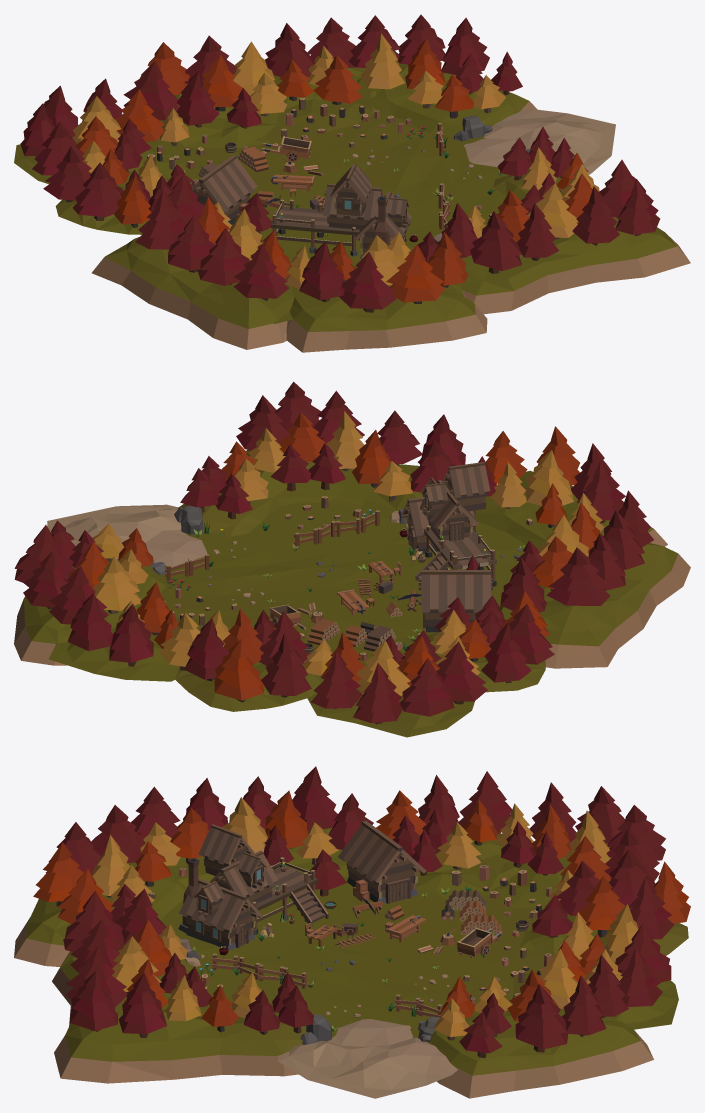
The model's file is LumberMill_Autumn.glb.
3 renders of one model, top to bottom at view 1: azimuth 30°, elevation 25°; view 2: azimuth 150°, elevation 25°; view 3: azimuth 270°, elevation 25°, orthographic. The views are drawn at different scales.
Parts seen in each view (by area): view 1: TB_Env_Tile_Grass_A, TB_Env_Mound_Corner_A, TB_Env_Mound_Big_A, TB_Env_Mound_Med_A, TB_Env_LowMound_C, TB_Env_Mound_Med_A (1), TB_Bd_WoodHouse (×2), TB_Env_LowMound_A (3), TB_Env_LowMoundCir_A (1), TB_Bd_Ext_Big, TB_Env_Tree_A (6), TB_Env_Tree_C (+69 smaller); view 2: TB_Env_Tile_Grass_A, TB_Env_Mound_Big_A, TB_Env_Mound_Corner_A, TB_Env_LowMound_C, TB_Bd_WoodHouse (×2), TB_Env_Mound_Med_A (1), TB_Env_LowMound_A (3), TB_Env_Mound_Med_A, TB_Env_LowMound_A (2), TB_Env_LowMoundCir_A (1), TB_Env_Tree_A (3), TB_Env_Tree_C (11) (+66 smaller); view 3: TB_Env_Tile_Grass_A, TB_Env_Mound_Corner_A, TB_Env_Mound_Med_A (1), TB_Env_LowMound_C, TB_Bd_WoodHouse (×2), TB_Env_Mound_Med_A, TB_Env_LowMoundCir_A, TB_Env_Tree_A (22), TB_Env_Tree_A (13), TB_Env_Tree_A (12), TB_Env_LowMound_A (3), TB_Env_Tree_A (3) (+85 smaller).
Boxes of the visible parts, x1,y1,x2,y2 form: TB_Env_Tile_Grass_A: (175, 113, 508, 323); TB_Env_Mound_Corner_A: (457, 174, 690, 314); TB_Env_Mound_Big_A: (91, 237, 294, 349); TB_Env_Mound_Med_A: (286, 279, 487, 352); TB_Env_LowMound_C: (464, 109, 615, 174); TB_Env_Mound_Med_A (1): (353, 62, 537, 136); TB_Bd_WoodHouse (×2): (191, 155, 411, 258); TB_Env_LowMound_A (3): (273, 65, 375, 131); TB_Env_LowMoundCir_A (1): (157, 94, 278, 148); TB_Bd_Ext_Big: (271, 199, 359, 256); TB_Env_Tree_A (6): (339, 252, 396, 312); TB_Env_Tree_C: (386, 244, 445, 303); TB_Env_Tile_Grass_A: (160, 502, 525, 659); TB_Env_Mound_Big_A: (498, 543, 690, 668); TB_Env_Mound_Corner_A: (177, 446, 423, 536); TB_Env_LowMound_C: (47, 504, 207, 566); TB_Bd_WoodHouse (×2): (401, 497, 492, 632); TB_Env_Mound_Med_A (1): (14, 559, 165, 665); TB_Env_LowMound_A (3): (49, 618, 206, 681); TB_Env_Mound_Med_A: (475, 470, 667, 549); TB_Env_LowMound_A (2): (307, 659, 474, 737); TB_Env_LowMoundCir_A (1): (175, 651, 323, 711); TB_Env_Tree_A (3): (546, 547, 610, 605); TB_Env_Tree_C (11): (214, 639, 263, 702); TB_Env_Tile_Grass_A: (161, 876, 544, 1052); TB_Env_Mound_Corner_A: (52, 945, 307, 1083); TB_Env_Mound_Med_A (1): (427, 1008, 653, 1098); TB_Env_LowMound_C: (278, 1019, 457, 1098); TB_Bd_WoodHouse (×2): (179, 820, 426, 950); TB_Env_Mound_Med_A: (14, 860, 186, 966); TB_Env_LowMoundCir_A: (416, 833, 519, 900); TB_Env_Tree_A (22): (515, 984, 567, 1052); TB_Env_Tree_A (13): (118, 973, 166, 1037); TB_Env_Tree_A (12): (70, 970, 117, 1031); TB_Env_LowMound_A (3): (513, 971, 678, 1029); TB_Env_Tree_A (3): (292, 766, 337, 830).
Size of the model in its own units: 56.29 by 10.18 by 57.29.
Materials: 2 (2 with a texture image).
